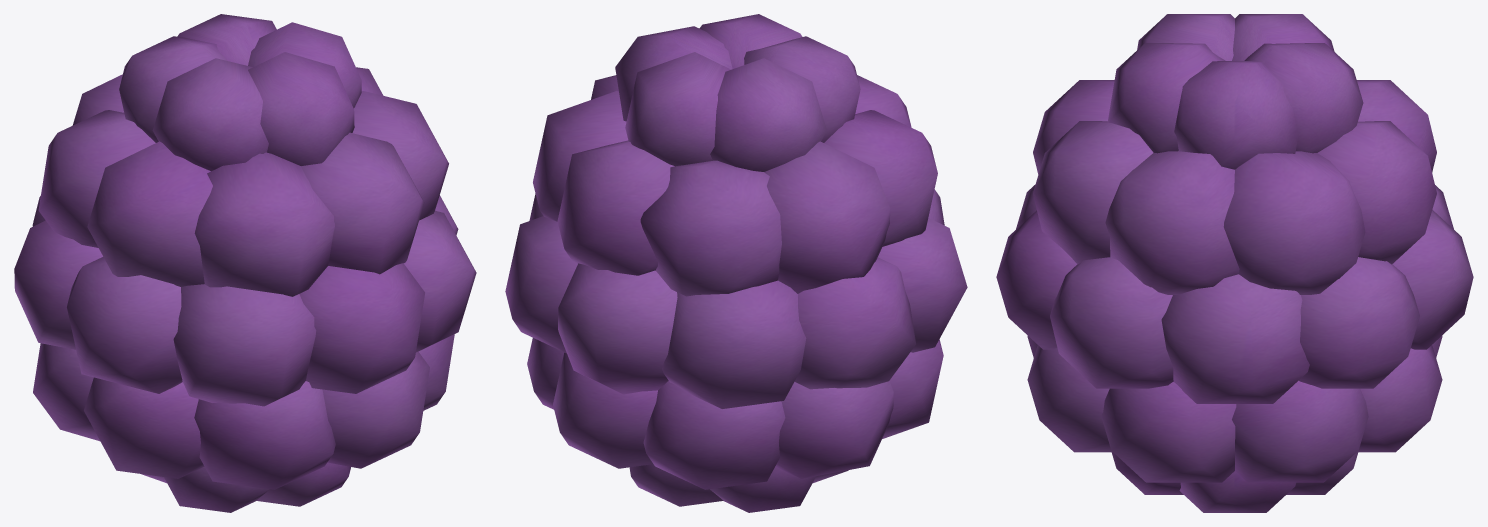
File: blackberry_dense-C5vTTO1O.glb
3 renders of one model, left to right at view 1: azimuth 30°, elevation 25°; view 2: azimuth 150°, elevation 25°; view 3: azimuth 270°, elevation 25°, orthographic.
Parts seen in each view (by area): view 1: FLC_blackberry_dense; view 2: FLC_blackberry_dense; view 3: FLC_blackberry_dense.
Boxes of the visible parts, bbox=[...] form: FLC_blackberry_dense: bbox=[14, 14, 476, 512]; FLC_blackberry_dense: bbox=[505, 14, 967, 512]; FLC_blackberry_dense: bbox=[996, 14, 1473, 512].
Size of the model in its own units: 0.3205 by 0.3407 by 0.3267.
Materials: 1 (1 with a texture image).
